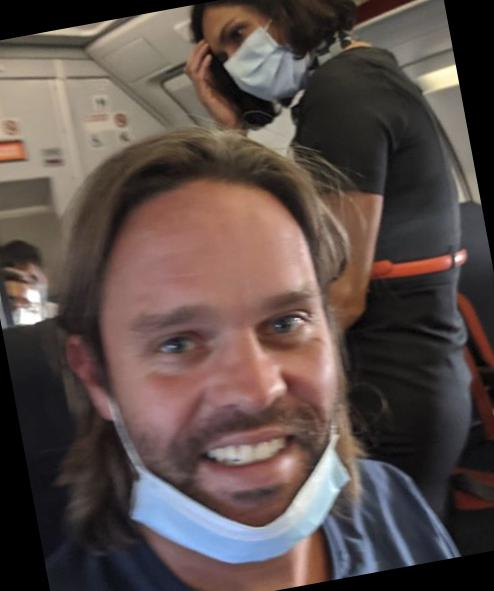mask_weared_incorrect: (98, 249, 360, 558)
with_mask: (198, 7, 309, 108)
